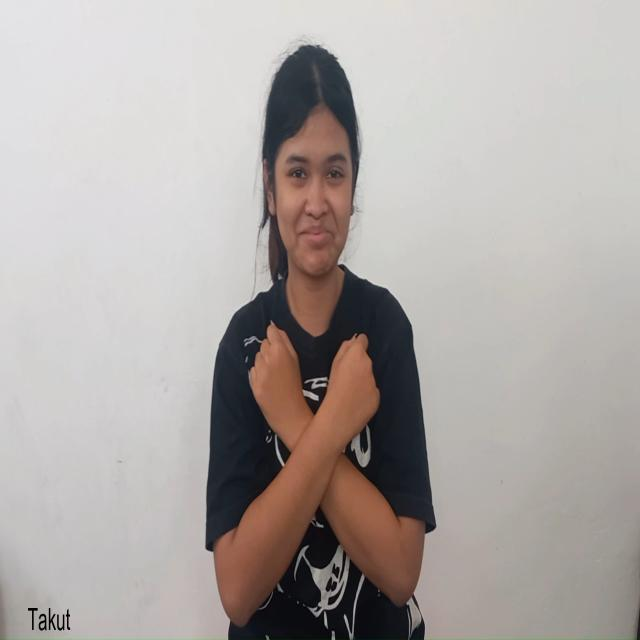Takut -BISINDO-: (230, 319, 401, 628)
